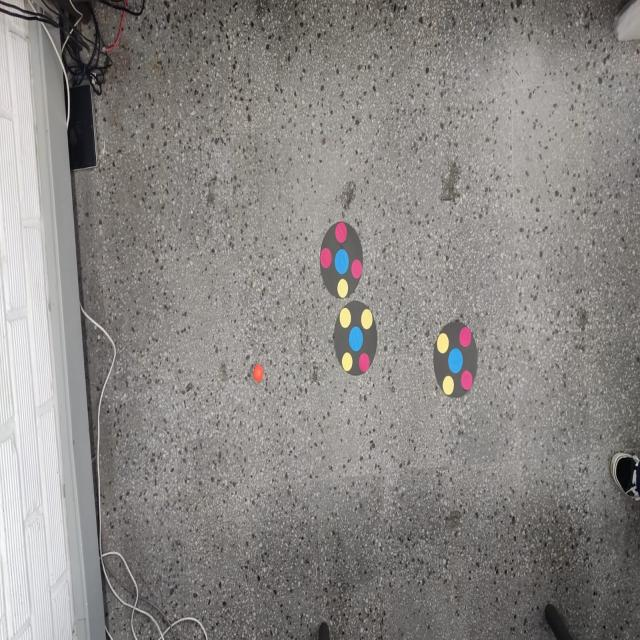0: (320, 220, 364, 298)
1: (433, 316, 479, 399)
2: (333, 300, 378, 376)
Ball: (252, 364, 264, 383)
